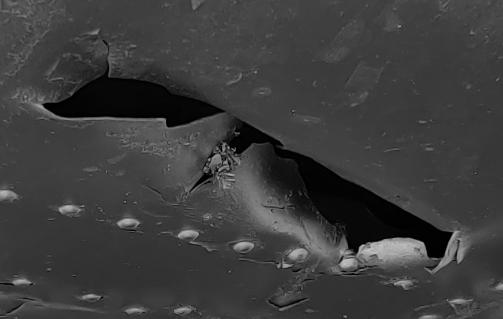crack: (1, 1, 503, 319)
